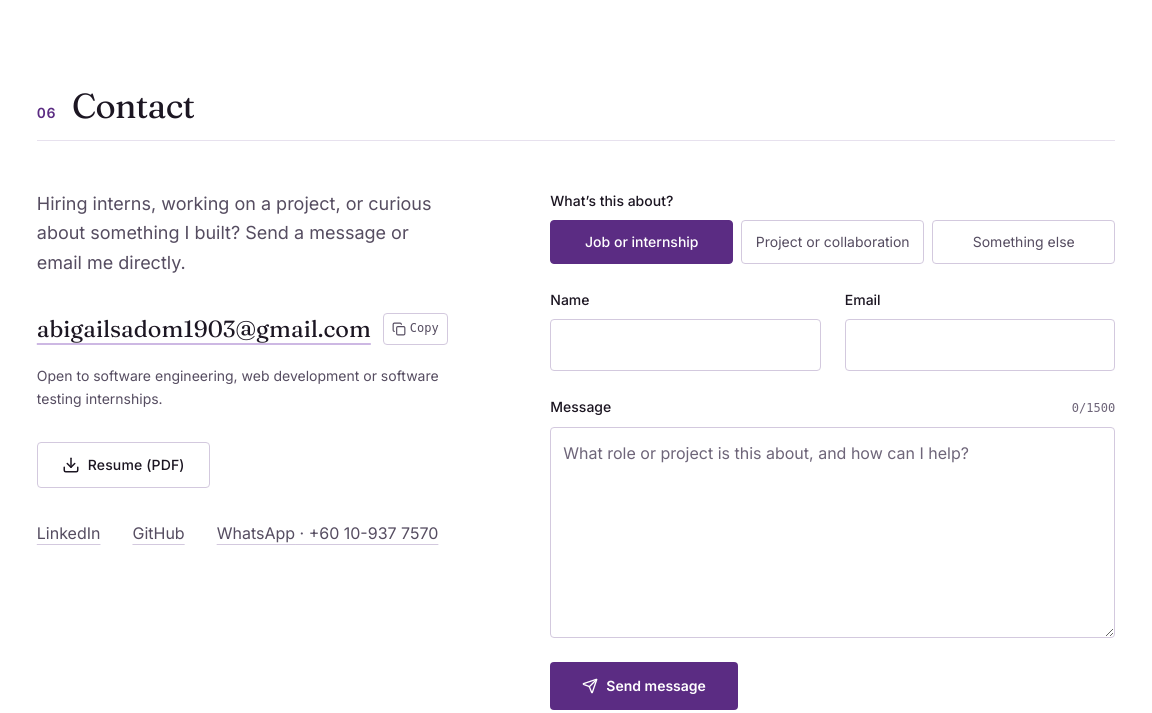
Scenario: Contact › counts characters and opens a pre-filled email for the chosen topic
Click the radio button labelled "Project or collaboration": [833, 242] box [741,220,924,264]
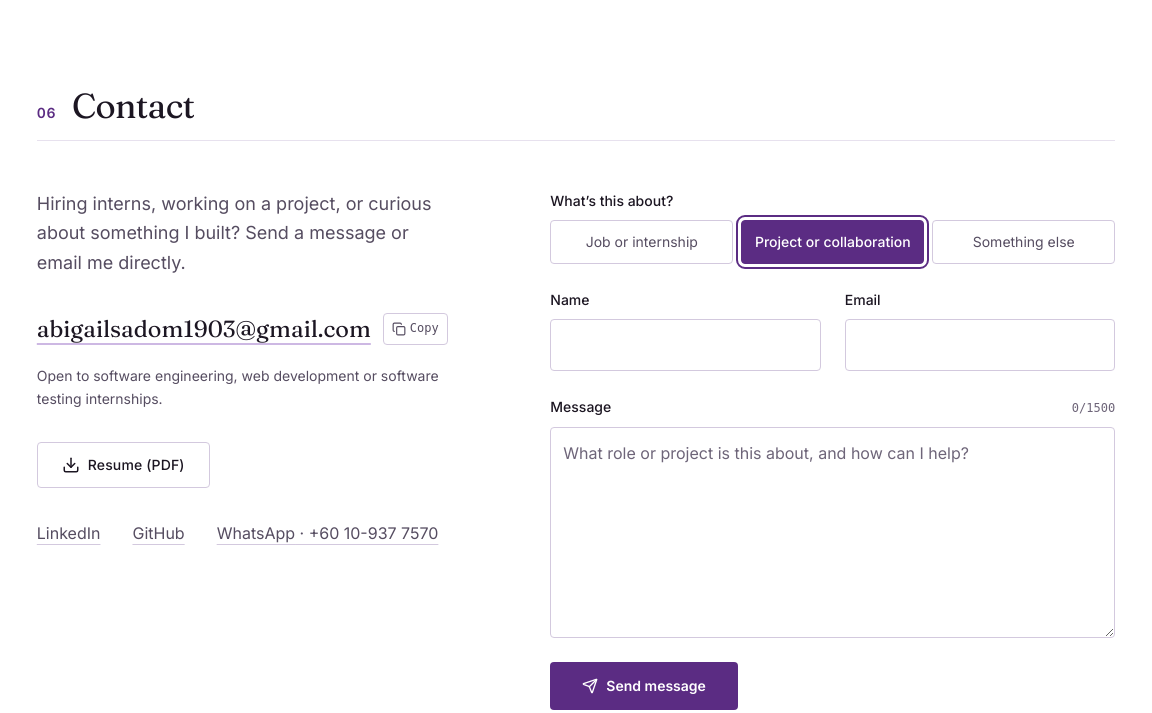
In the field labelled "Name": [686, 345] box [550,319,821,371], type "Ali"
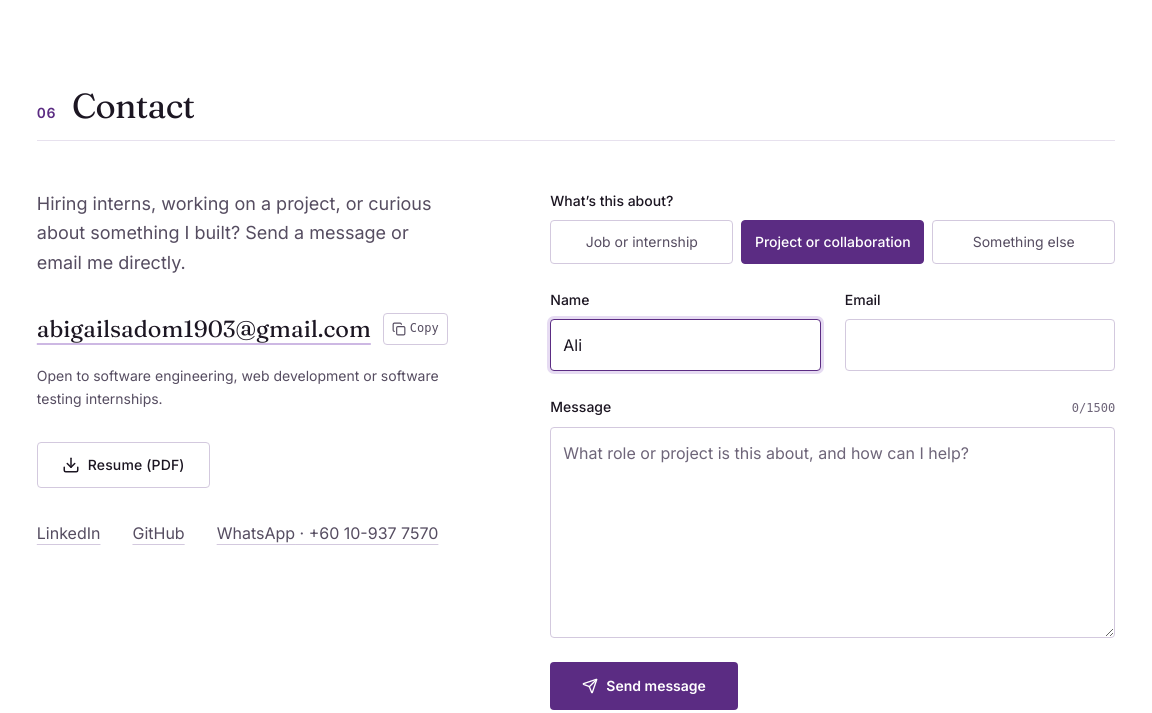
In the field labelled "Email": [980, 345] box [845,319,1115,371], type "ali@example.com"
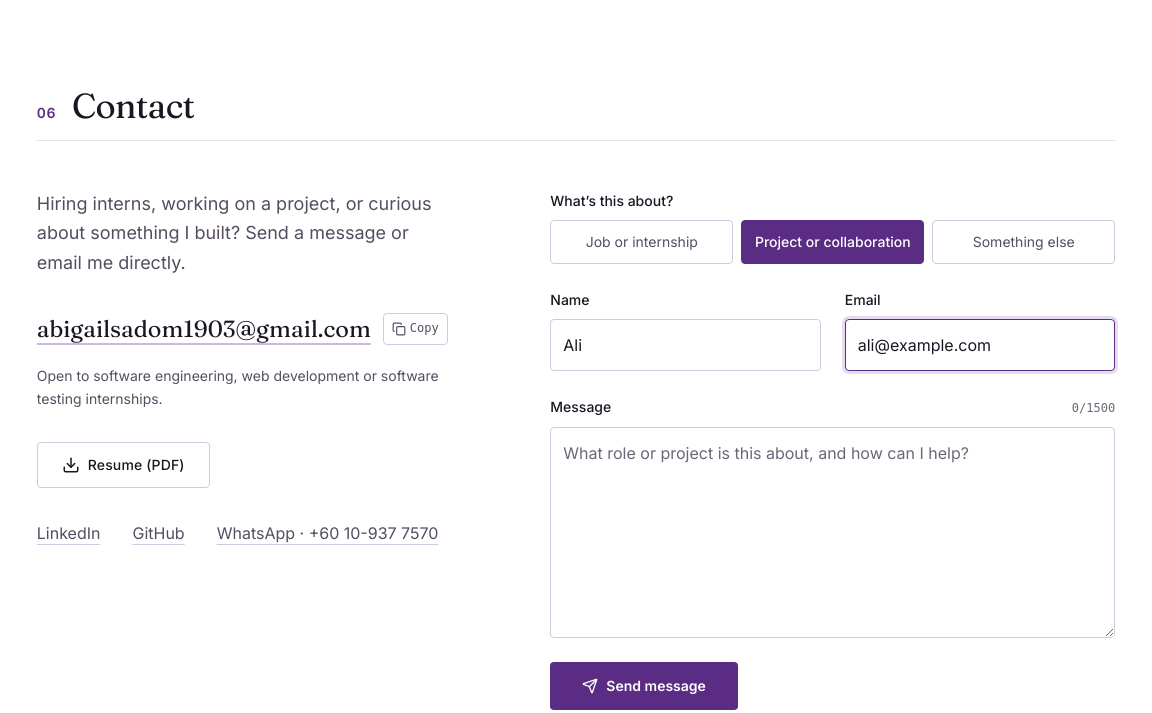
In the text box labelled "Message": [833, 532] box [550,427,1115,638], type "Hello there"
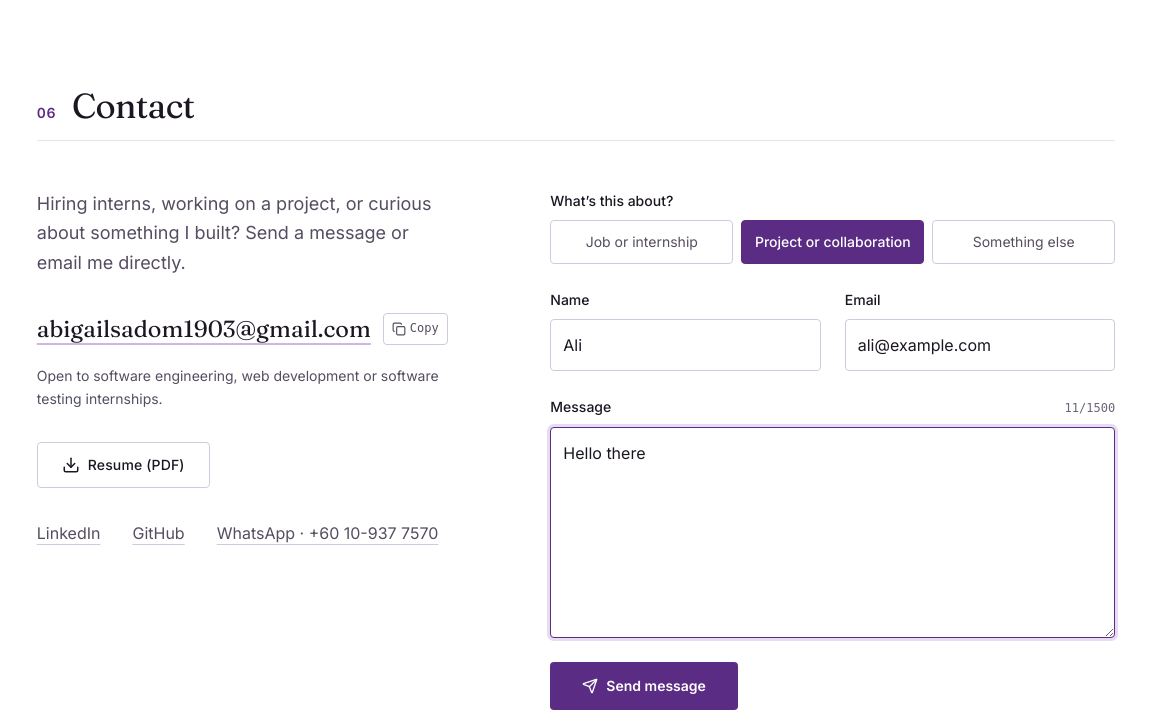
expect the text "11/1500" is shown: met, box [1065,399,1115,419]
Click the button "Send message": [644, 686] box [550,662,738,710]
(page scrolled)
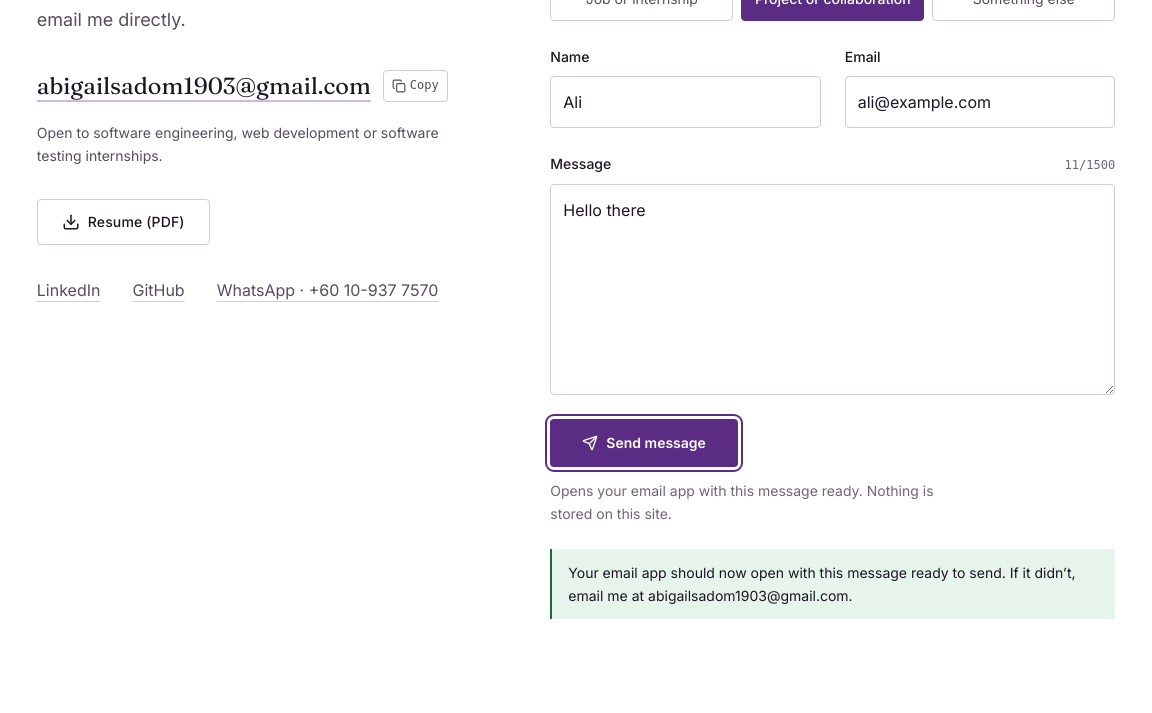
expect the message shows "email app should now open": met, box [568,564,1076,604]
